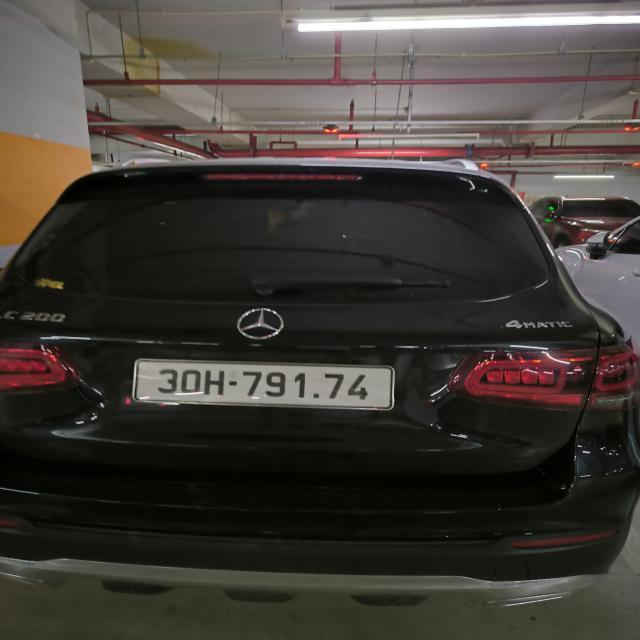license: (131, 357, 395, 410)
